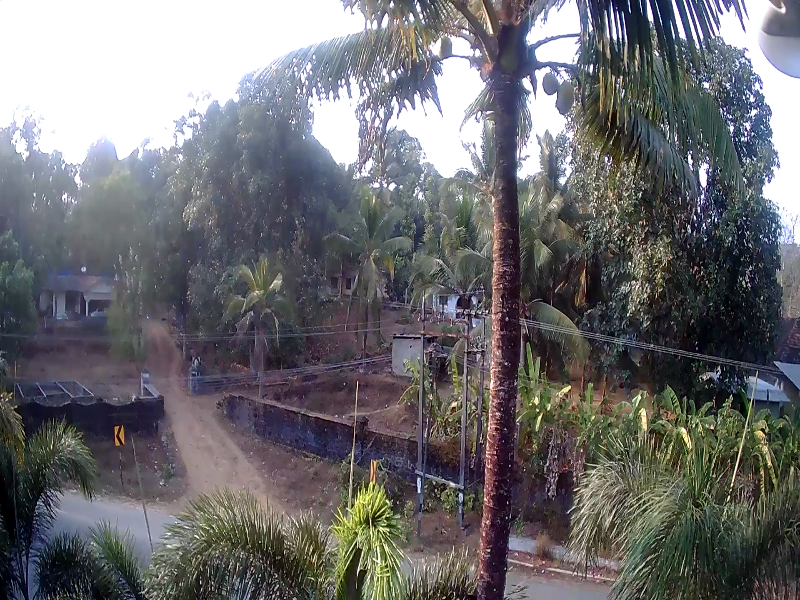coconut: (552, 73, 576, 117), (438, 32, 453, 56), (540, 73, 554, 95)
